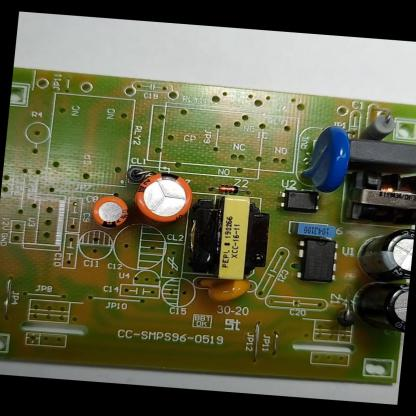Cap1: (128, 168, 196, 226)
Cap2: (89, 193, 132, 229)
Cap3: (354, 223, 414, 280)
Cap4: (353, 277, 409, 335)
MOSFET: (292, 239, 340, 282)
Mov: (298, 122, 352, 194)
Resistor: (355, 112, 398, 141)
Transformer: (185, 191, 275, 282), (342, 166, 416, 228)
